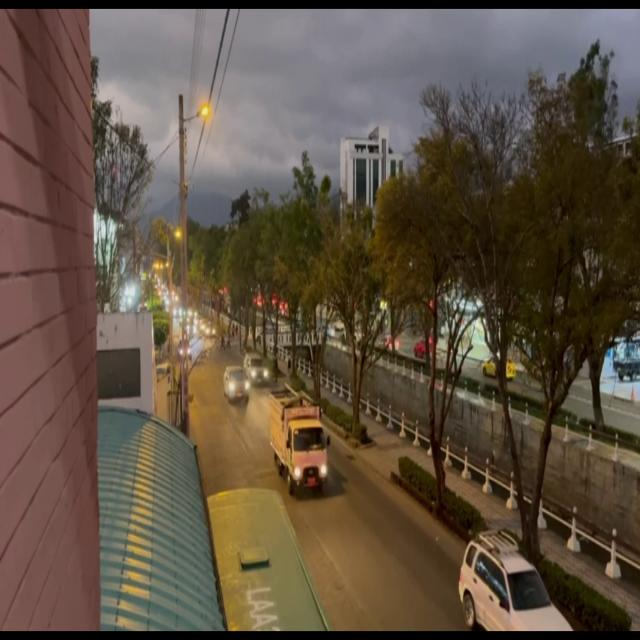SUV: (462, 533, 568, 635), (226, 368, 250, 405)
TRUCK: (269, 389, 325, 486)
